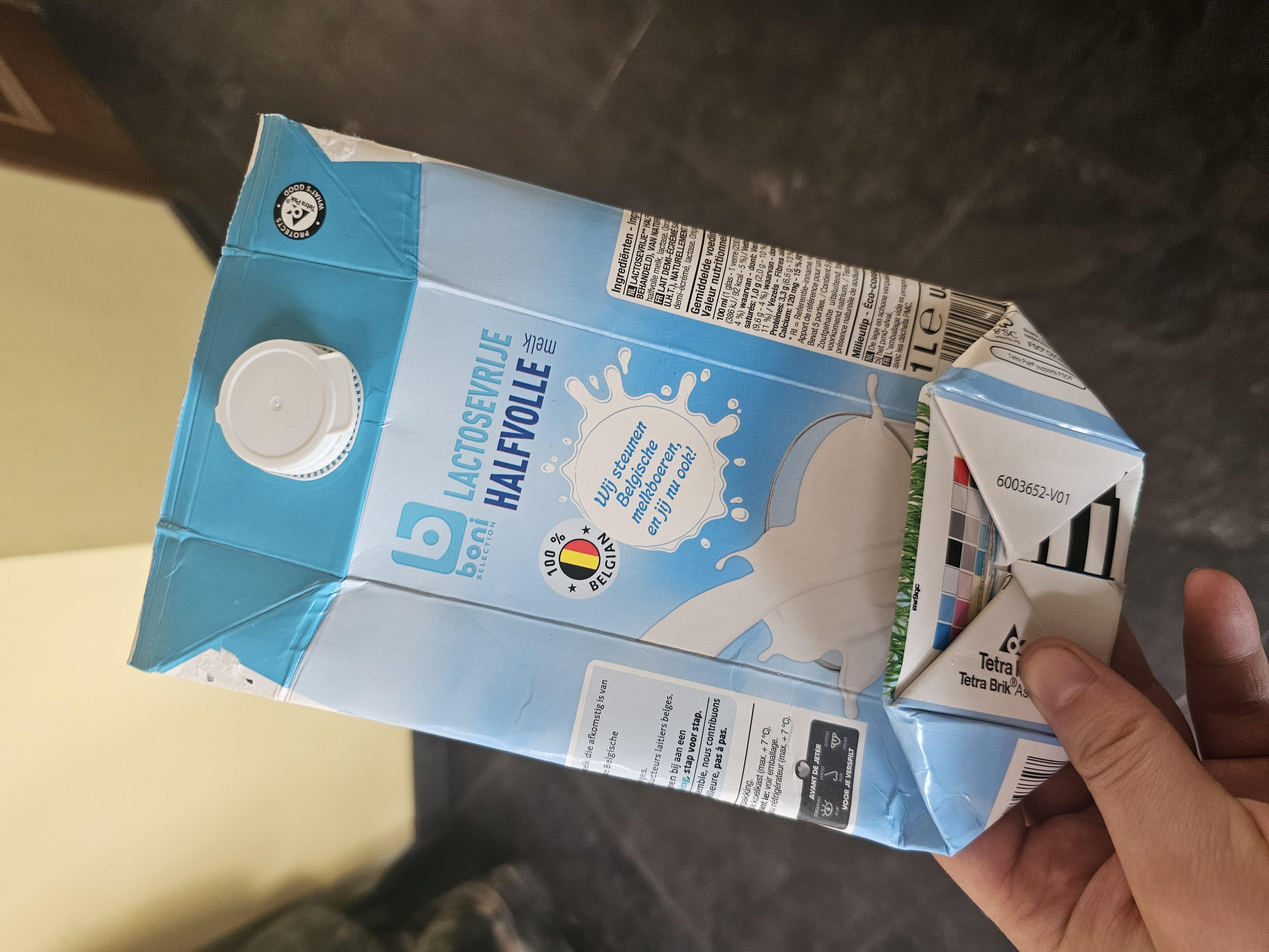Cardboard: (123, 92, 1126, 871)
Plastic: (613, 149, 837, 277)
